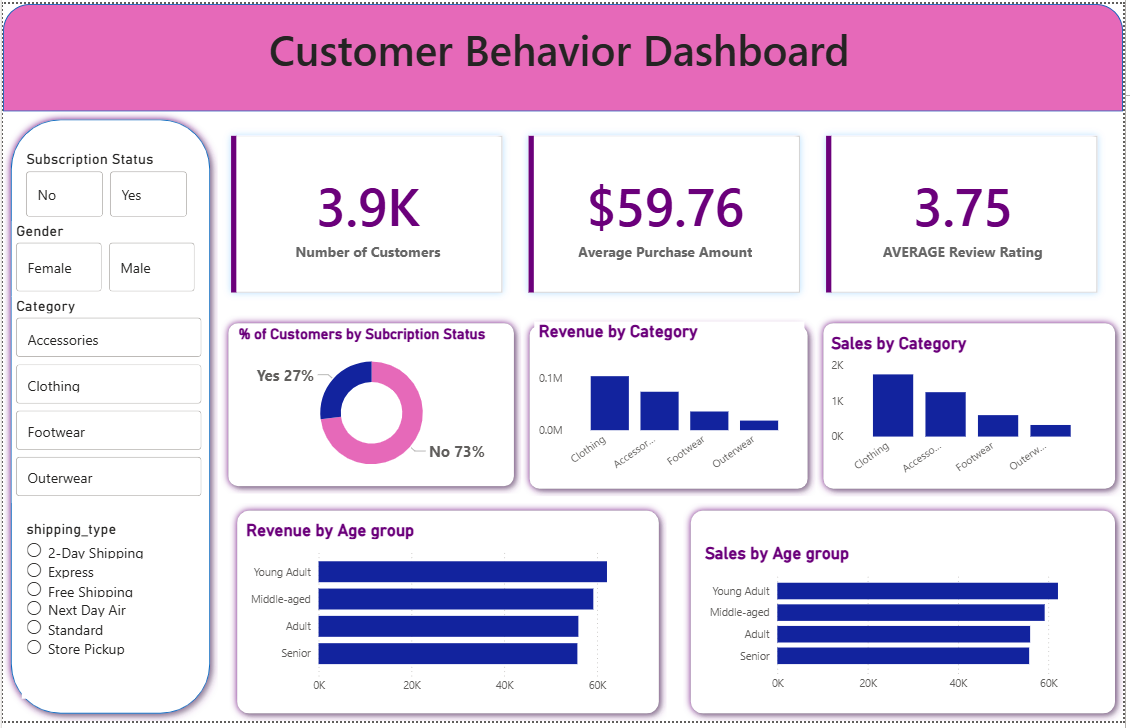

Layout of this report page (visuals, bound fields, positions):
{"tool":"powerbi","page":{"name":"Page 1","canvas":[1280,820],"ordinal":0},"visuals":[{"type":"cardVisual","fields":{"Data":["public customer.Number of Customers","public customer.Average Purchase Amount","public customer.AVERAGE Review Rating"]},"box":[232.9,122.9,1047.1,235.7],"z":0},{"type":"shape","box":[0,0,1280,122.9],"z":1000},{"type":"textbox","box":[215.7,14.3,840,92.9],"z":2000},{"type":"shape","box":[248.6,355.7,344.3,204.3],"z":3000},{"type":"donutChart","title":"% of Customers by Subcription Status","fields":{"Category":["public customer.subscription_status"],"Y":["CountNonNull(public customer.customer_id)"]},"box":[264.3,367.1,314.3,181.4],"z":4000},{"type":"shape","box":[592.9,358.6,335.7,204.3],"z":5000},{"type":"shape","box":[928.6,355.7,351.4,207.1],"z":6000},{"type":"clusteredColumnChart","title":"Revenue by Category","fields":{"Y":["Sum(public customer.purchase_amount)"],"Category":["public customer.category"]},"box":[607.1,362.9,308.6,181.4],"z":7000},{"type":"clusteredColumnChart","title":"Sales by Category","fields":{"Y":["CountNonNull(public customer.customer_id)"],"Category":["public customer.category"]},"box":[941.4,377.1,310,171.4],"z":8000},{"type":"shape","box":[0,122.9,245.7,697.1],"z":9000},{"type":"advancedSlicerVisual","title":"Subscription Status","fields":{"Values":["public customer.subscription_status"]},"box":[21.4,167.1,194.3,81.4],"z":10000},{"type":"advancedSlicerVisual","title":"Gender","fields":{"Values":["public customer.gender"]},"box":[10,248.6,215.7,85.7],"z":11000},{"type":"advancedSlicerVisual","title":"Category","fields":{"Values":["public customer.category"]},"box":[10,334.3,222.9,235.7],"z":12000},{"type":"listSlicer","fields":{"Values":["public customer.shipping_type"]},"box":[21.4,590,172.9,204.3],"z":13000},{"type":"shape","box":[258.6,570,500,250],"z":14000},{"type":"shape","box":[777.1,570,502.9,250],"z":15000},{"type":"clusteredBarChart","title":" Revenue by Age group","fields":{"Category":["public customer.age_group"],"Y":["Sum(public customer.purchase_amount)"]},"box":[272.9,590,474.3,207.1],"z":16000},{"type":"clusteredBarChart","title":" Sales by Age group","fields":{"Category":["public customer.age_group"],"Y":["Sum(public customer.purchase_amount)"]},"box":[797.1,617.1,464.3,177.1],"z":17000}]}

Visuals, with their boxes in screenshot pixels (x1, y1, x2, y2), scaled from the page's 1280x820 canvas onto the 1130x728 screenshot:
cardVisual - public customer.Number of Customers x public customer.Average Purchase Amount: box(206, 109, 1129, 318)
shape: box(0, 0, 1129, 109)
textbox: box(190, 13, 932, 95)
shape: box(219, 316, 523, 497)
"% of Customers by Subcription Status" donutChart: box(233, 326, 511, 487)
shape: box(523, 318, 820, 500)
shape: box(820, 316, 1129, 500)
"Revenue by Category" clusteredColumnChart: box(536, 322, 808, 483)
"Sales by Category" clusteredColumnChart: box(831, 335, 1105, 487)
shape: box(0, 109, 217, 727)
"Subscription Status" advancedSlicerVisual: box(19, 148, 190, 221)
"Gender" advancedSlicerVisual: box(9, 221, 199, 297)
"Category" advancedSlicerVisual: box(9, 297, 206, 506)
listSlicer - public customer.shipping_type: box(19, 524, 172, 705)
shape: box(228, 506, 670, 727)
shape: box(686, 506, 1129, 727)
" Revenue by Age group" clusteredBarChart: box(241, 524, 660, 708)
" Sales by Age group" clusteredBarChart: box(704, 548, 1114, 705)
